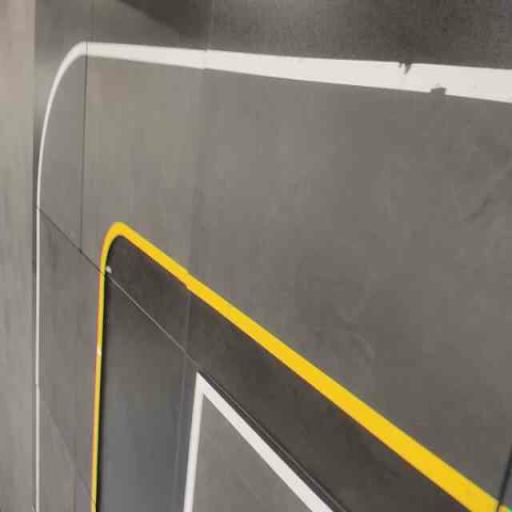straight: (181, 29, 510, 511)
